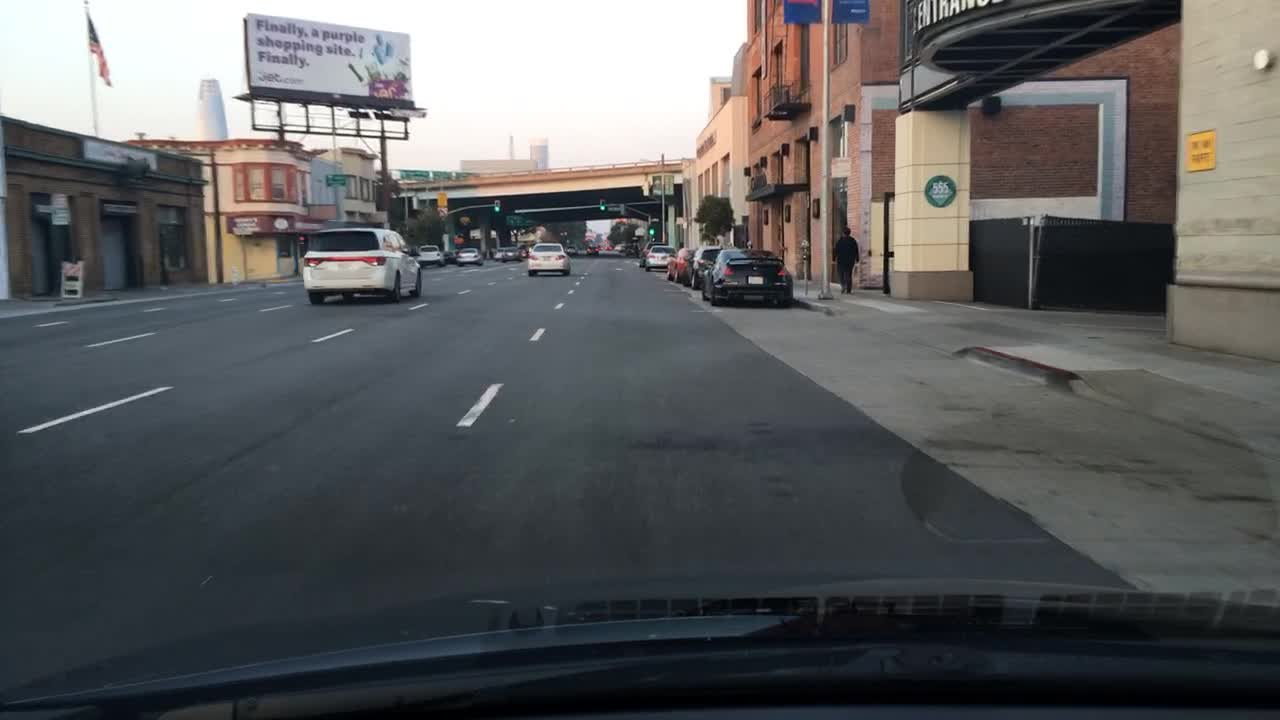car: (303, 227, 422, 305), (701, 247, 791, 305), (683, 244, 724, 288), (527, 240, 570, 277), (662, 247, 697, 283), (413, 244, 444, 269), (637, 240, 660, 270), (454, 247, 484, 267), (501, 240, 521, 262), (441, 244, 456, 264), (491, 244, 505, 262), (621, 239, 636, 255), (583, 242, 602, 254), (562, 242, 576, 257), (628, 247, 638, 257), (612, 242, 621, 252)
person: (831, 227, 858, 294)
traffic light: (641, 178, 648, 194), (494, 198, 500, 212), (600, 198, 606, 212)
traffic sign: (786, 1, 869, 22), (401, 169, 430, 183), (326, 174, 344, 188), (662, 175, 675, 194), (431, 170, 451, 182), (455, 170, 479, 179), (651, 175, 662, 193), (436, 192, 446, 208), (437, 207, 450, 219), (616, 202, 626, 217)
